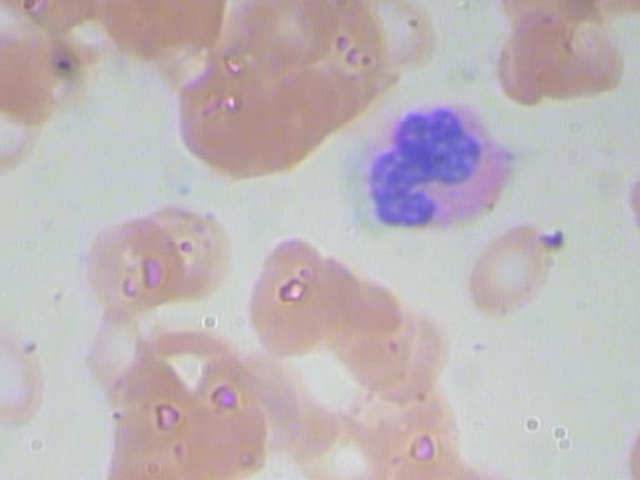RBC: (167, 59, 290, 175), (169, 364, 292, 480), (130, 196, 247, 304), (49, 295, 166, 403), (454, 220, 571, 327), (76, 209, 193, 316), (242, 228, 339, 355), (485, 5, 587, 119), (355, 384, 472, 480), (0, 19, 98, 123), (221, 0, 346, 78), (292, 235, 368, 362), (326, 260, 402, 386), (352, 279, 428, 405), (383, 283, 458, 409), (350, 0, 450, 76), (0, 74, 61, 175), (0, 324, 53, 433)
WBC: (362, 95, 523, 244)
